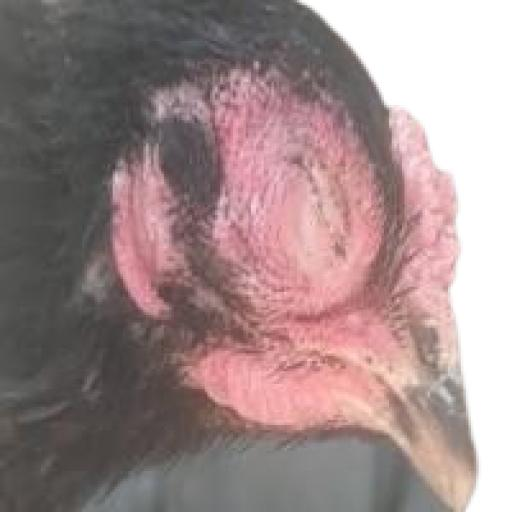disease: (222, 111, 470, 450)
